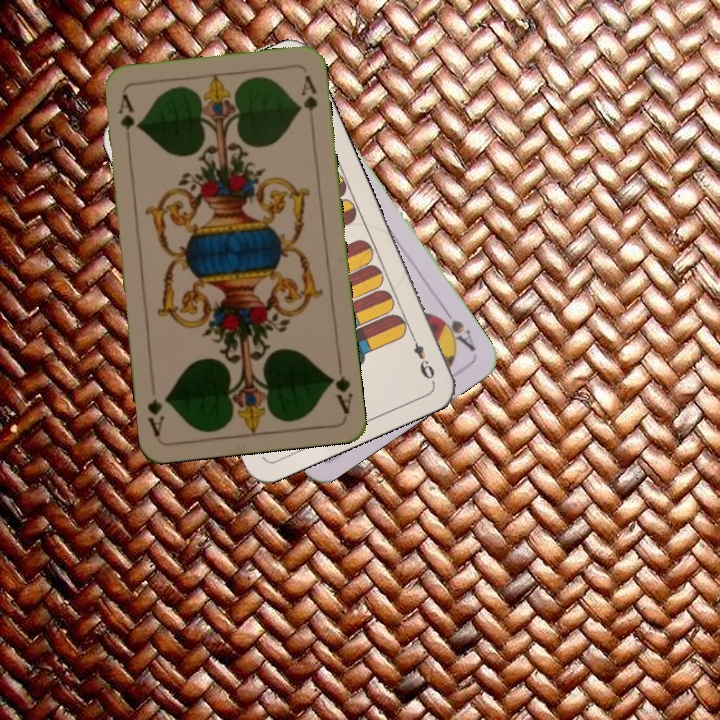E9: (406, 328, 438, 384)
GA: (325, 357, 355, 417), (114, 90, 137, 149)
SA: (431, 303, 479, 355)
